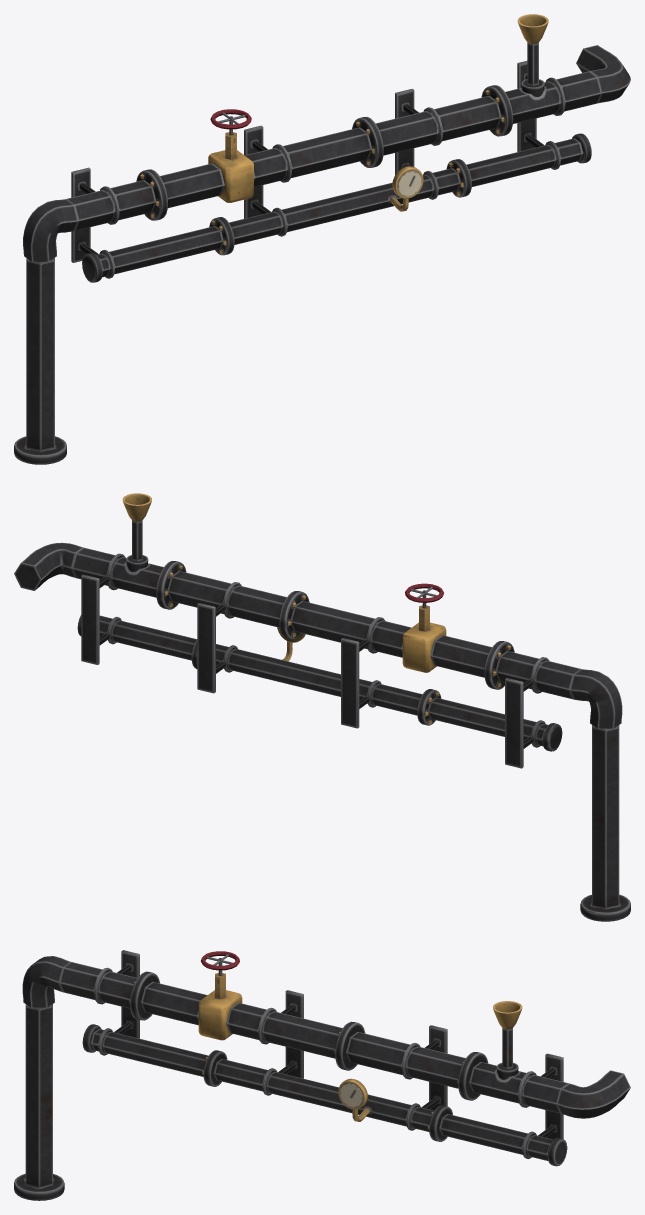
The model's file is PipeRun.fbx.
3 views of the same model, one above another, from view 1: azimuth 30°, elevation 25°; view 2: azimuth 150°, elevation 25°; view 3: azimuth 330°, elevation 25° (orthographic). The views are drawn at different scales.
Visible parts, largest first — view 1: PipeRun; view 2: PipeRun; view 3: PipeRun.
Part boxes in pixels (x1,y1,x2,y2): PipeRun: [14, 14, 630, 464]; PipeRun: [14, 493, 630, 921]; PipeRun: [14, 950, 630, 1200].
Size of the model in its own units: 860 by 416 by 121.
